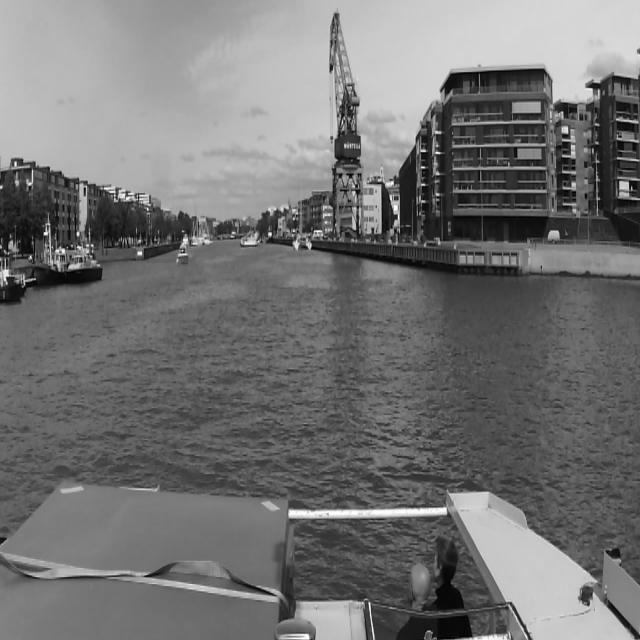ship: (33, 215, 63, 289), (0, 253, 26, 300), (68, 245, 102, 280), (293, 204, 311, 252), (243, 234, 263, 247), (177, 241, 188, 264)
